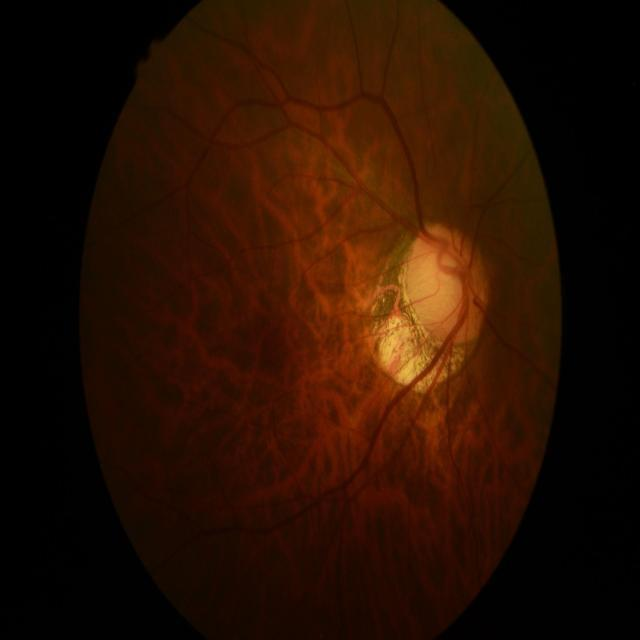cup: (407, 235, 475, 332)
disk: (403, 220, 488, 344)
